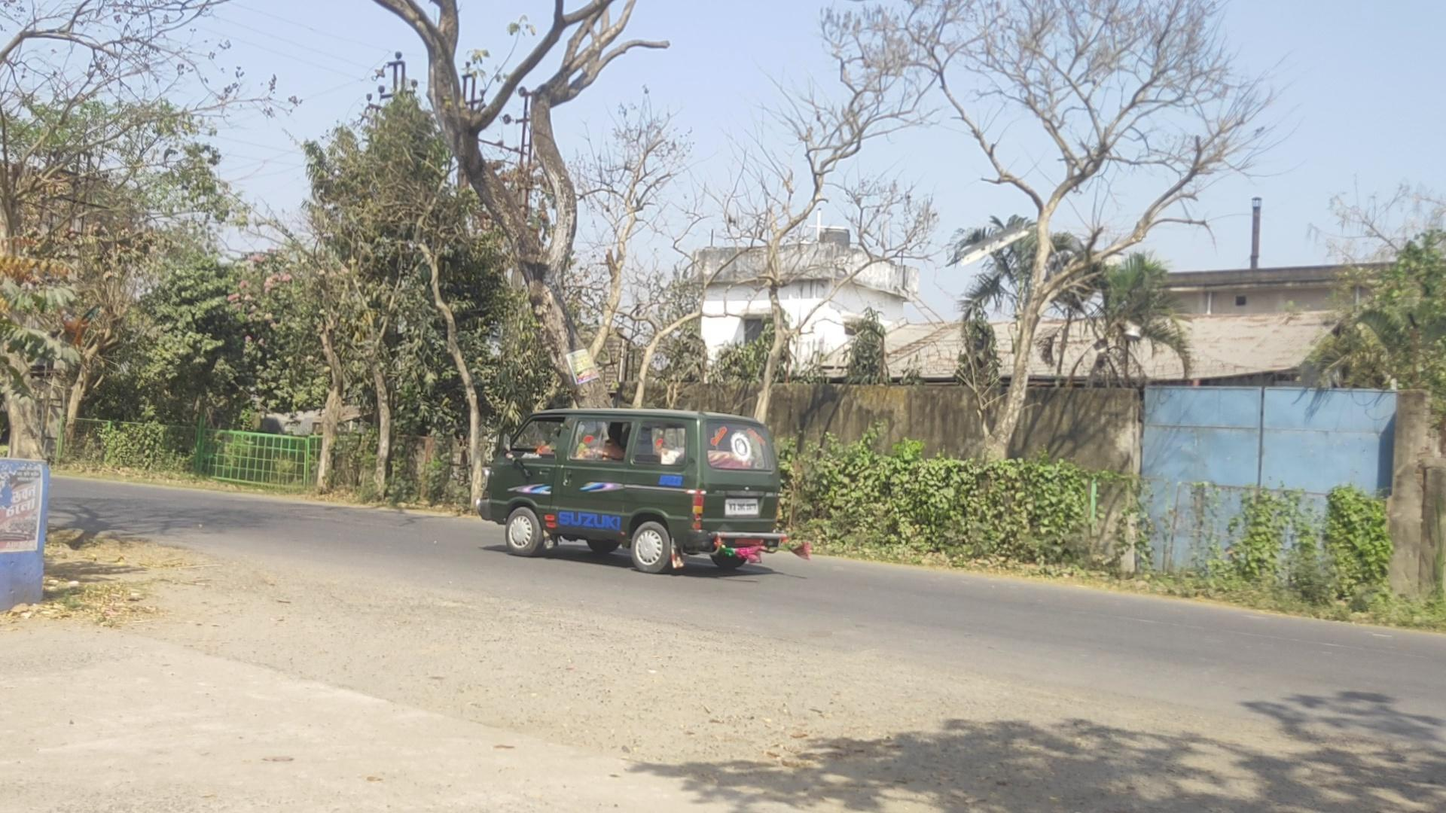van: (475, 407, 788, 574)
